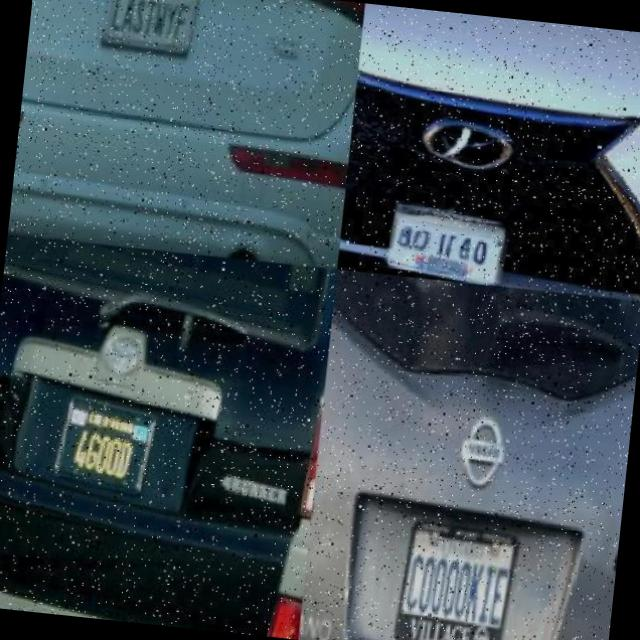LicensePlate: (390, 517, 520, 640), (54, 386, 166, 495), (385, 203, 509, 285), (96, 0, 198, 61)
